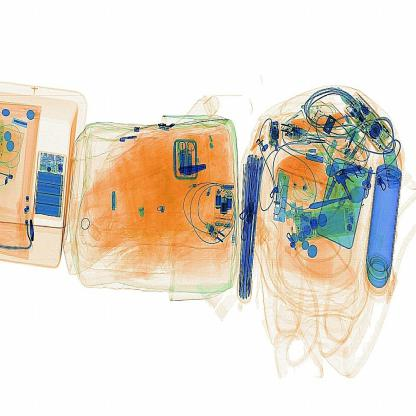knife: (171, 152, 210, 186)
